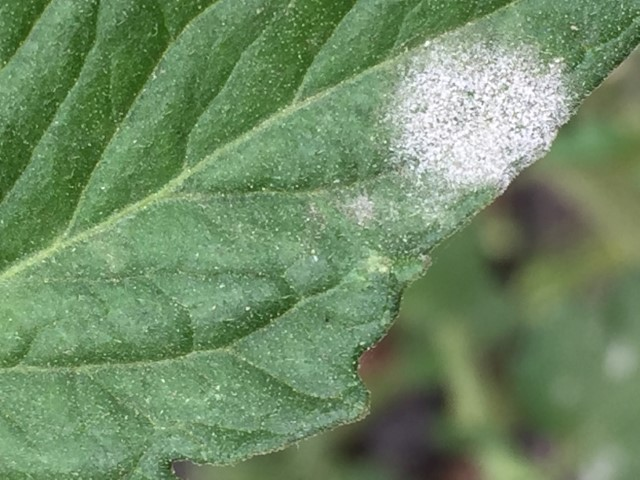oidio: (383, 32, 570, 189), (345, 194, 374, 226)
